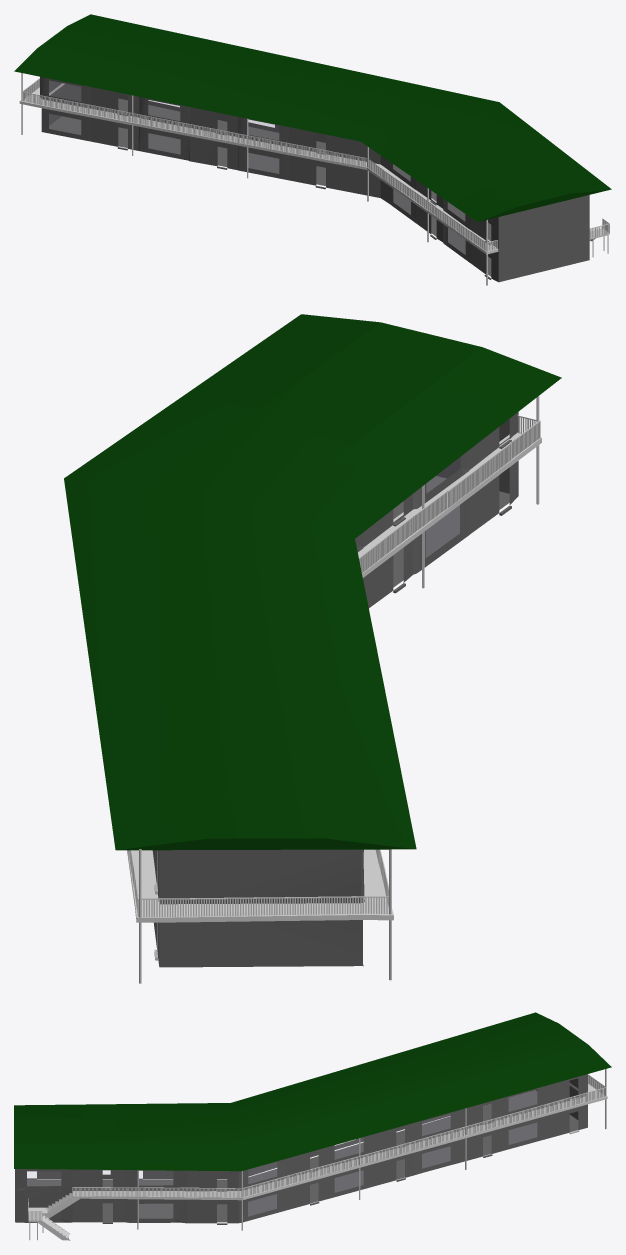
The model's file is motel8.fbx.
3 views of the same model, one above another, from view 1: azimuth 30°, elevation 25°; view 2: azimuth 150°, elevation 25°; view 3: azimuth 270°, elevation 25° (orthographic). The views are drawn at different scales.
Parts seen in each view (by area): view 1: polySurface232, polySurface233, polySurface142; view 2: polySurface232, polySurface233, polySurface142, polySurface181, polySurface179, polySurface183; view 3: polySurface232, polySurface233, polySurface142, polySurface80, polySurface77, polySurface234, polySurface83, polySurface81, polySurface84, polySurface78, polySurface110, polySurface220.
Boxes of the visible parts, <box> form: polySurface232: <box>14,14,611,221</box>; polySurface233: <box>40,76,589,282</box>; polySurface142: <box>19,83,498,254</box>; polySurface232: <box>64,314,561,850</box>; polySurface233: <box>153,412,518,967</box>; polySurface142: <box>127,432,541,922</box>; polySurface181: <box>206,898,270,916</box>; polySurface179: <box>271,897,335,915</box>; polySurface183: <box>141,898,204,916</box>; polySurface232: <box>14,1012,611,1171</box>; polySurface233: <box>15,1078,585,1224</box>; polySurface142: <box>72,1083,607,1200</box>; polySurface80: <box>327,1119,501,1198</box>; polySurface77: <box>327,1098,501,1165</box>; polySurface234: <box>27,1162,276,1217</box>; polySurface83: <box>501,1107,544,1151</box>; polySurface81: <box>544,1104,587,1139</box>; polySurface84: <box>501,1086,544,1117</box>; polySurface78: <box>544,1074,587,1106</box>; polySurface110: <box>28,1193,72,1238</box>; polySurface220: <box>72,1187,104,1196</box>.
Size of the model in its own units: 36.53 by 8.19 by 58.43.
